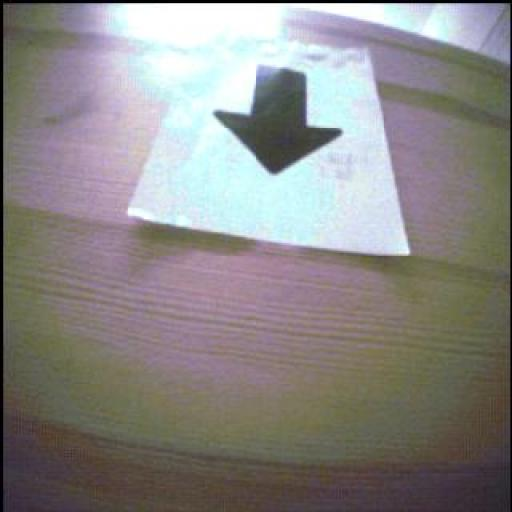Arrow: (216, 67, 344, 176)
